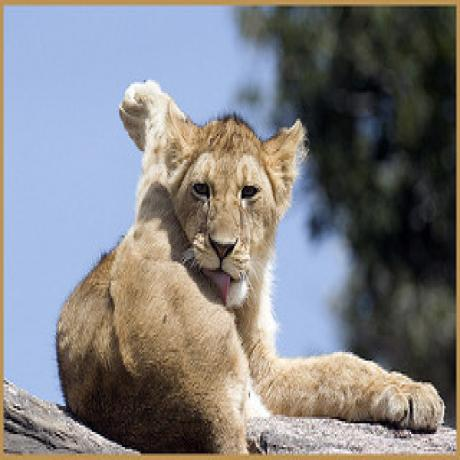Lion: (57, 79, 445, 452)
